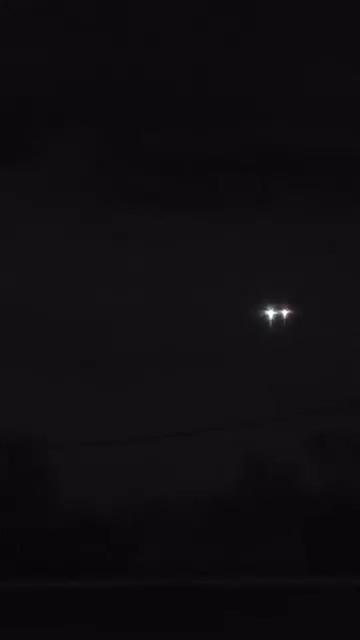Plane: (259, 302, 307, 328)
